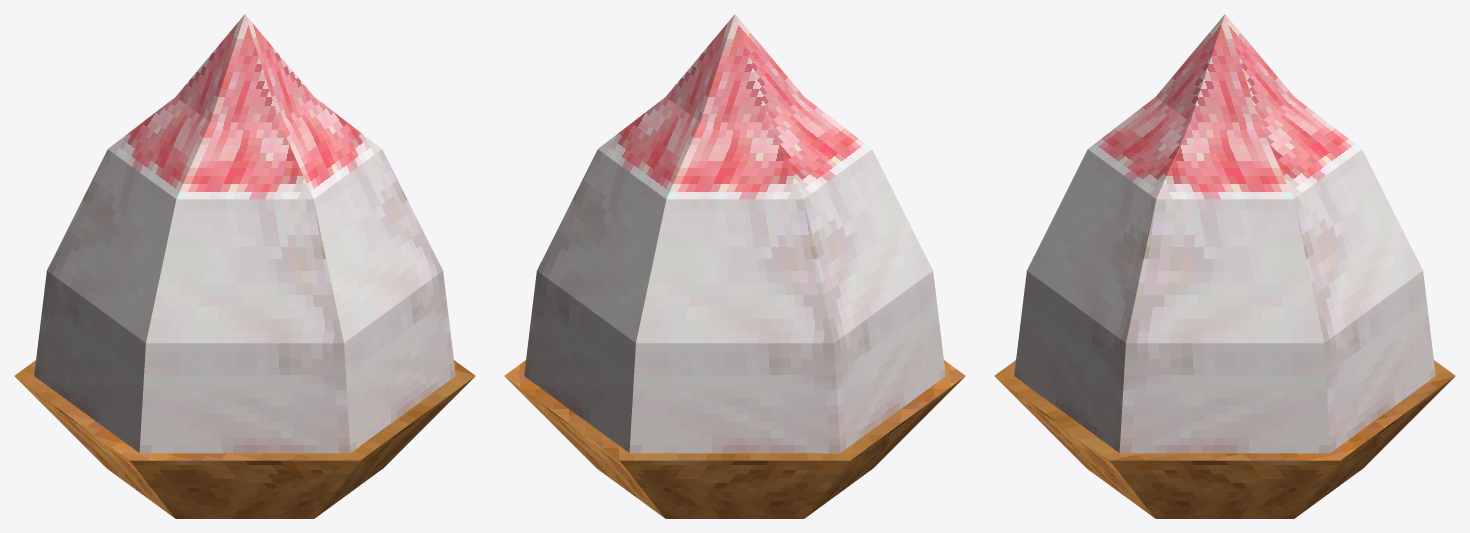
The model's file is Pastry01.obj.
The picture shows the model from 3 angles, left to right: view 1: azimuth 30°, elevation 25°; view 2: azimuth 150°, elevation 25°; view 3: azimuth 270°, elevation 25°; orthographic projection.
Visible parts, largest first — view 1: Pastry01; view 2: Pastry01; view 3: Pastry01.
Boxes of the visible parts, <box> form: Pastry01: <box>14,14,475,518</box>; Pastry01: <box>504,14,965,518</box>; Pastry01: <box>994,14,1455,518</box>.
Size of the model in its own units: 0.1001 by 0.1255 by 0.1156.
